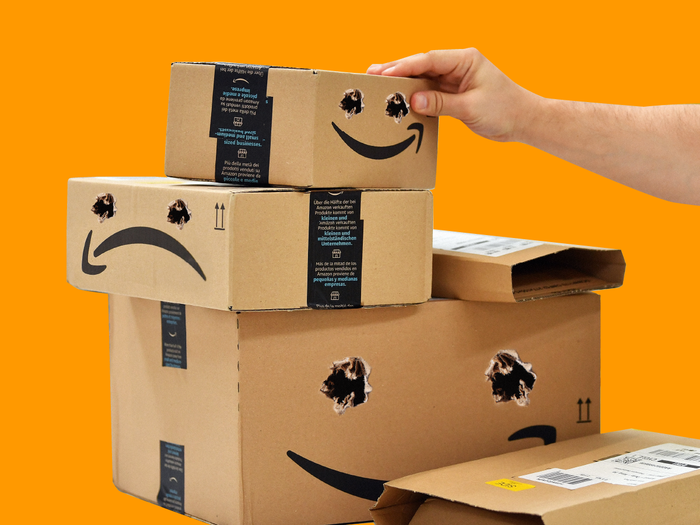package: (110, 285, 600, 525), (70, 174, 433, 308), (165, 50, 444, 193), (375, 427, 700, 525)
